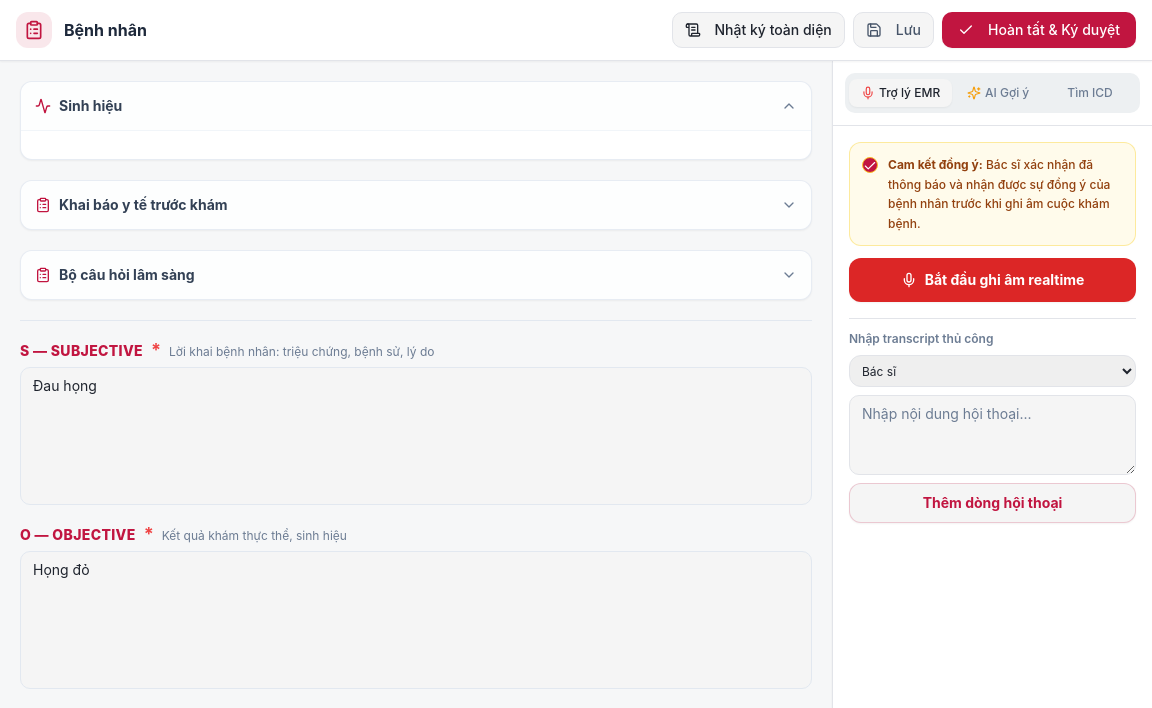
Scenario: SoapNoteEditor sign-off gate (TC-DLS-006) › should open PIN dialog when Assessment (A) is filled
Click the button "Hoàn tất & Ký duyệt". click: (1039, 30)
box: [942,12,1136,48]
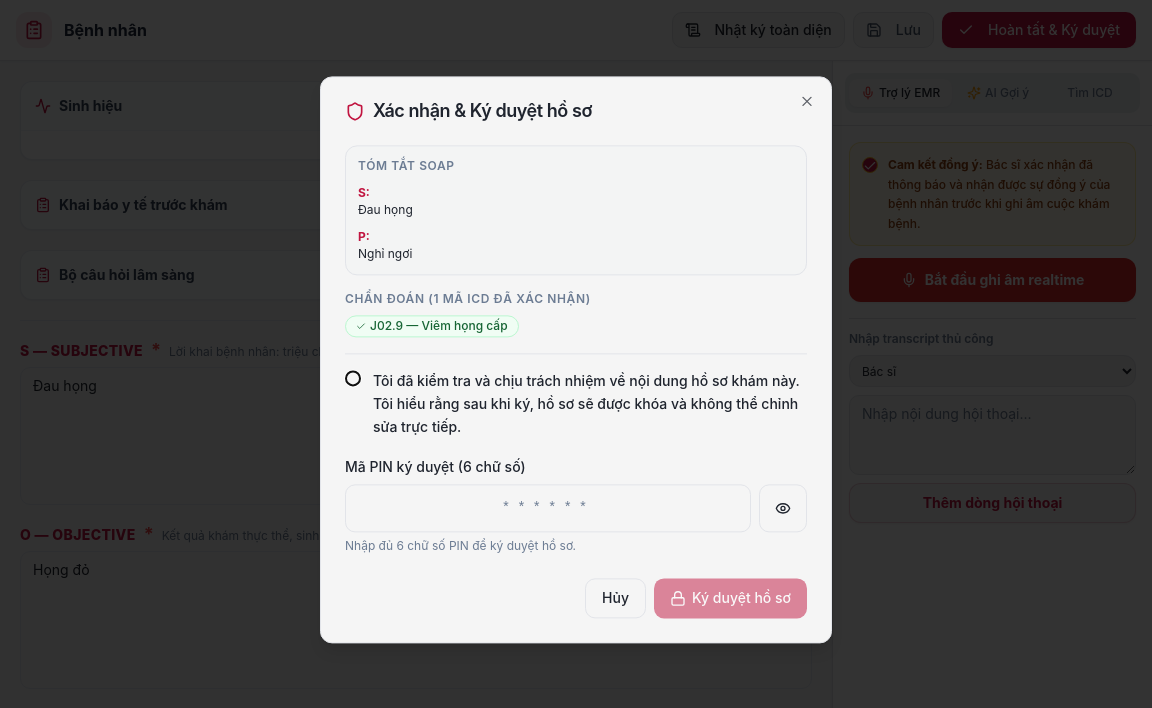
expect the heading "Xác nhận & Ký duyệt hồ sơ" is shown: met, box [345,100,592,121]
